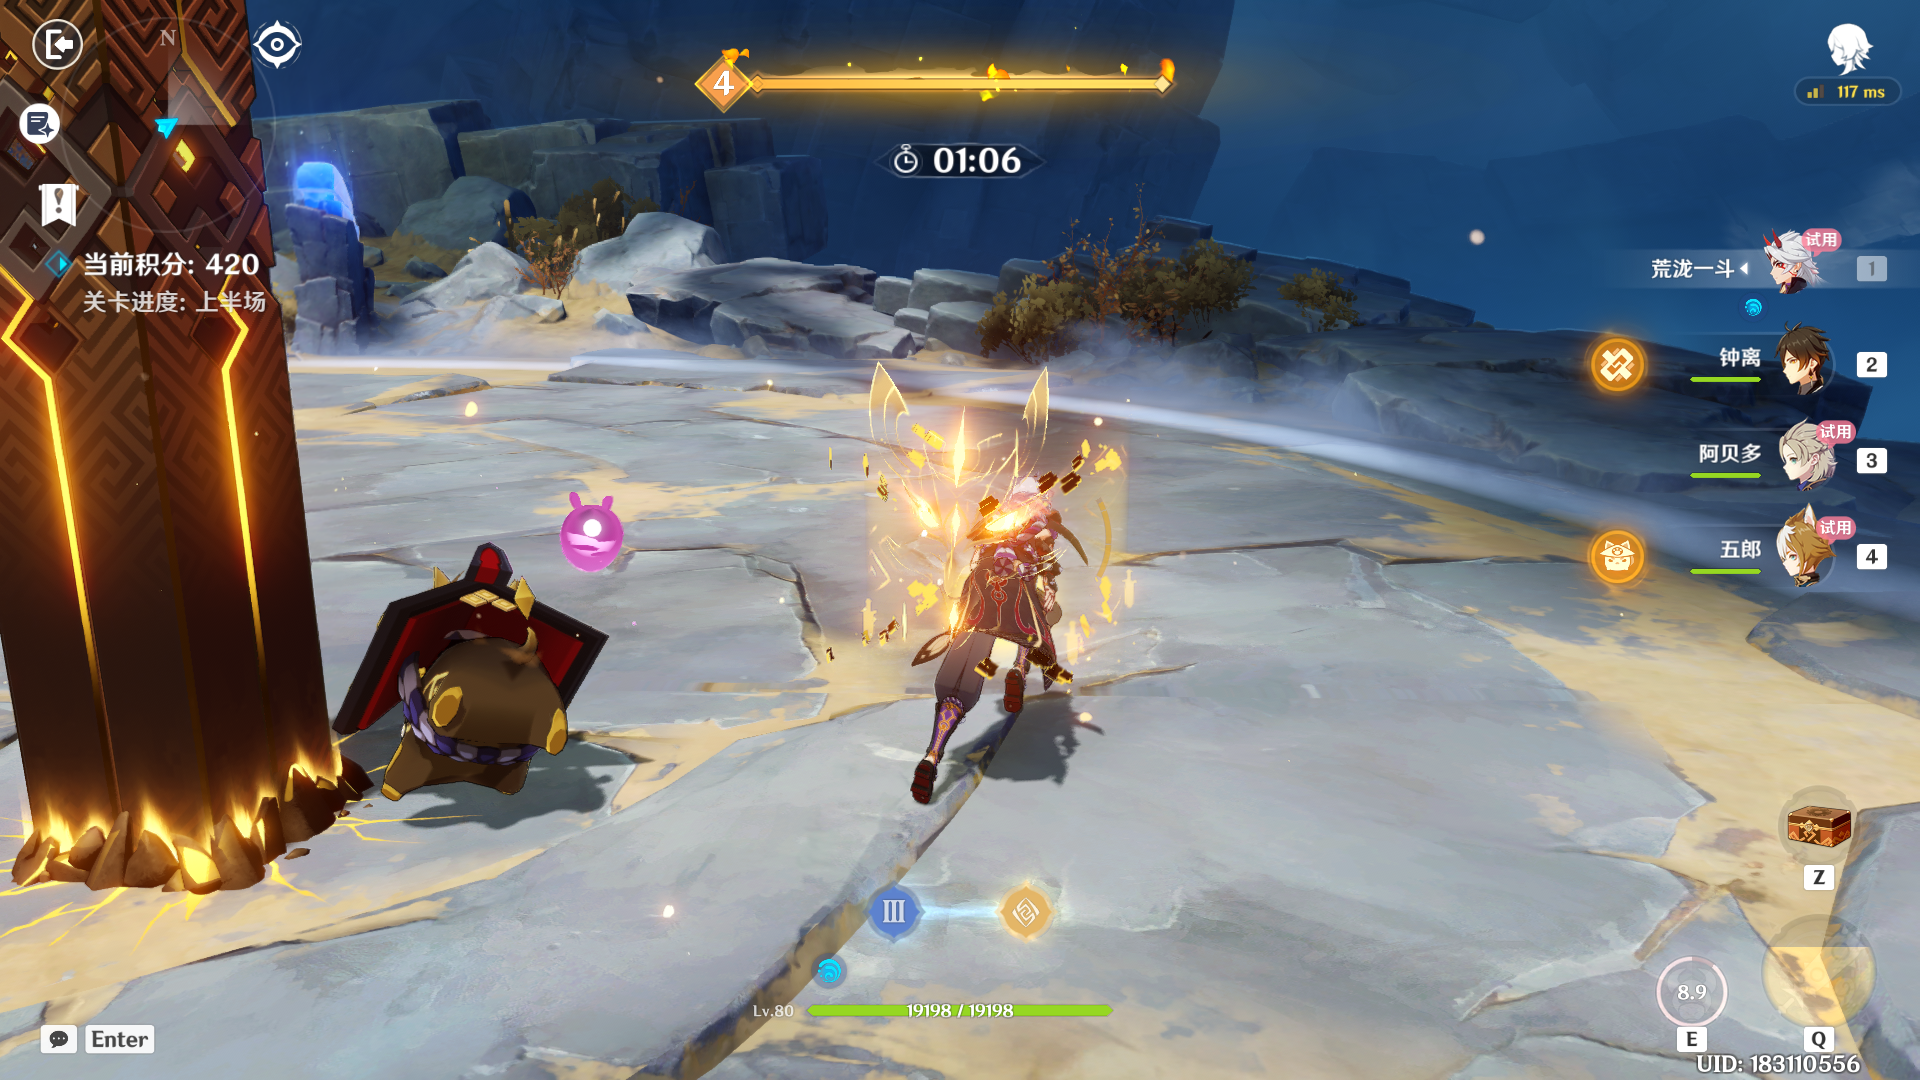character: (877, 444, 1163, 827)
